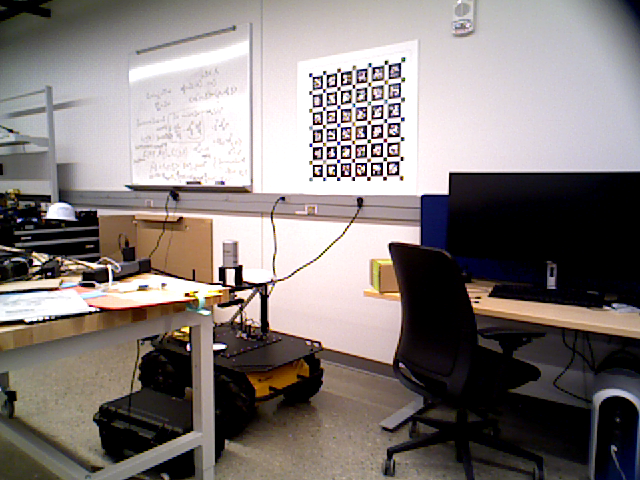painting4: (296, 39, 420, 193)
